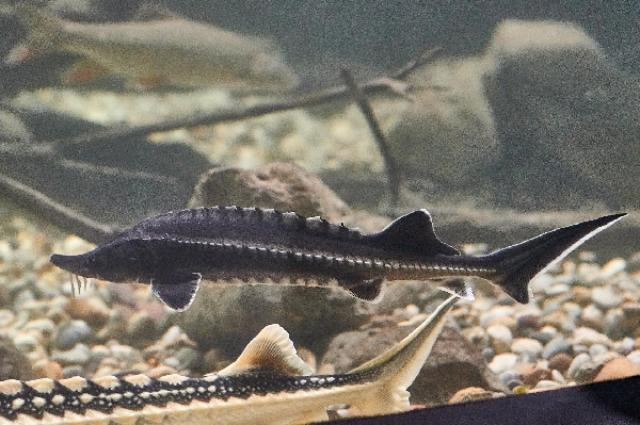Mulut: (36, 234, 82, 300)
Sirip Anal: (426, 258, 480, 308)
Sirip Dada: (147, 261, 207, 327)
Sirip Ekor: (495, 204, 639, 330)
Sirip Perut: (338, 270, 382, 312)
Sirip Punggung: (373, 196, 469, 272)
